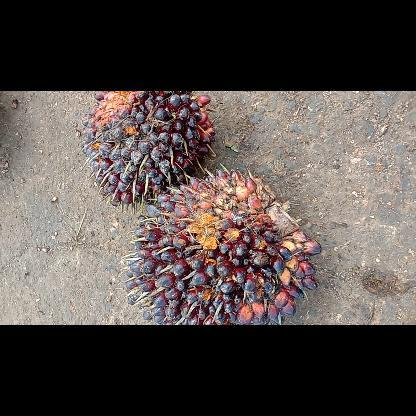Kurang masak: (122, 166, 326, 324), (79, 91, 216, 209)
